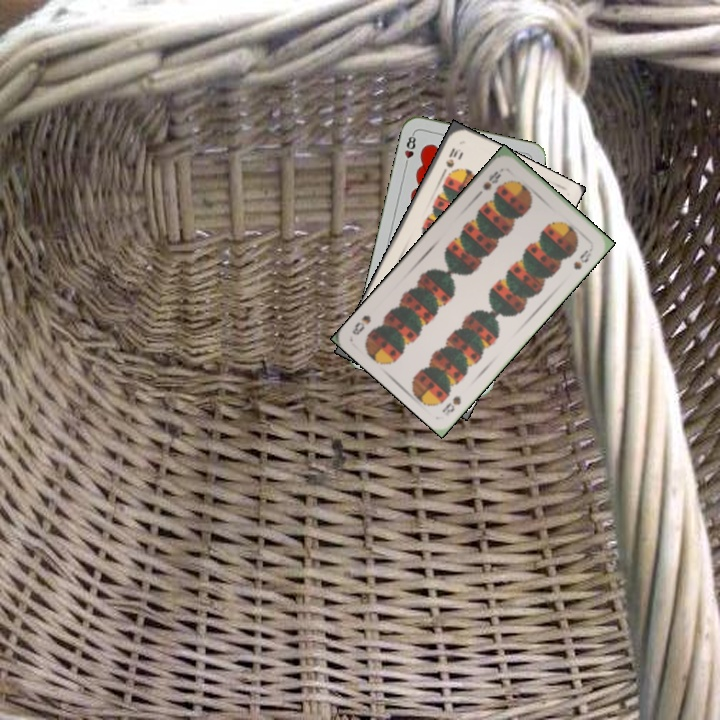H8: (400, 129, 419, 170)
S10: (438, 143, 464, 178)
S8: (438, 391, 464, 419), (479, 167, 504, 193)
